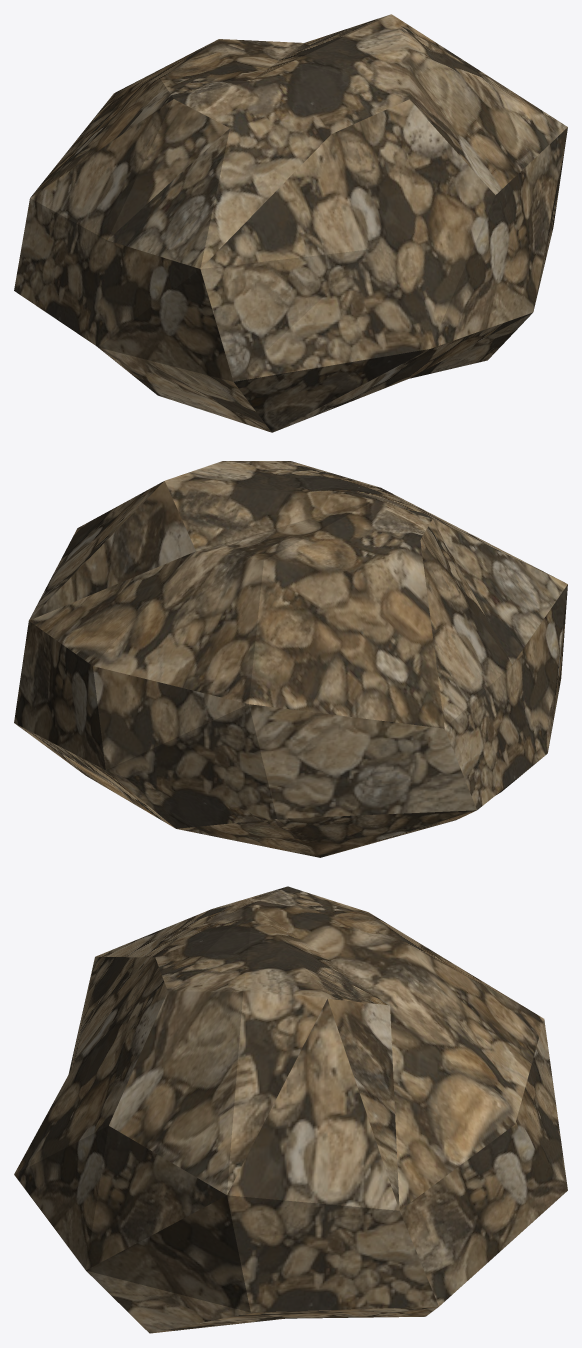
Rendered from slate.glb.
The picture shows the model from 3 angles, top to bottom: view 1: azimuth 30°, elevation 25°; view 2: azimuth 150°, elevation 25°; view 3: azimuth 270°, elevation 25°; orthographic projection. The views are drawn at different scales.
Visible parts, largest first — view 1: slate; view 2: slate; view 3: slate.
Boxes of the visible parts, x1=… form: slate: x1=14, y1=14, x2=567, y2=432; slate: x1=14, y1=461, x2=567, y2=857; slate: x1=14, y1=886, x2=567, y2=1333.
Bounding box in the file's own units: 0.9765 × 0.5742 × 0.8839.
1 material, 1 textured.
